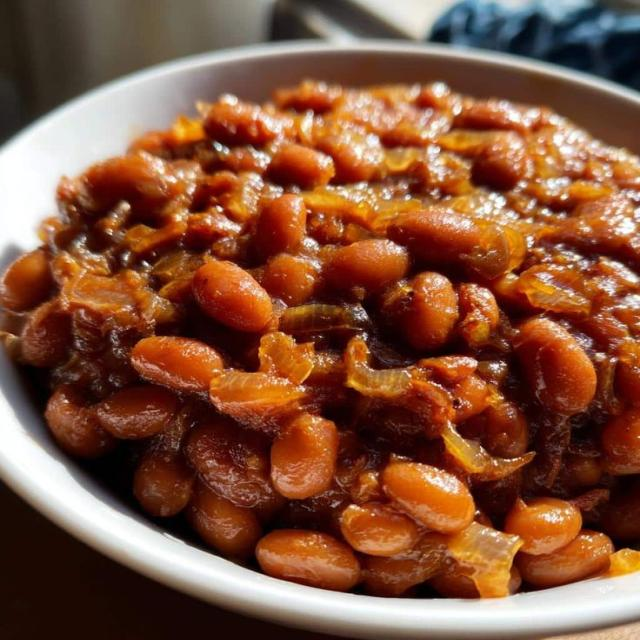beans: (387, 206, 526, 279), (186, 418, 274, 507), (516, 319, 596, 415), (382, 462, 474, 532), (256, 530, 360, 591), (82, 152, 179, 213), (271, 414, 338, 499), (385, 272, 458, 350), (187, 483, 261, 558), (193, 261, 272, 331), (516, 530, 613, 587), (364, 532, 446, 597), (387, 208, 481, 264), (45, 385, 115, 457), (131, 337, 222, 392), (95, 384, 178, 439), (327, 239, 409, 293), (505, 497, 581, 554), (340, 503, 418, 556), (204, 97, 288, 146), (134, 451, 193, 516), (21, 299, 71, 367), (254, 194, 306, 259), (0, 249, 53, 311), (363, 552, 433, 597), (472, 132, 526, 190), (318, 134, 383, 182), (261, 254, 319, 306), (268, 144, 334, 188), (454, 99, 538, 133), (458, 284, 499, 347), (601, 408, 639, 475), (483, 402, 528, 457), (274, 80, 342, 113), (599, 485, 639, 541), (453, 374, 491, 422), (429, 566, 479, 598), (616, 342, 639, 405), (349, 470, 384, 504), (566, 454, 602, 487)
